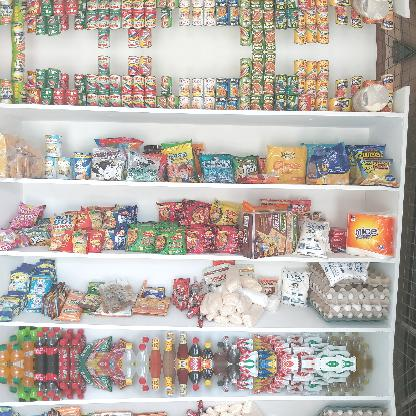Koko-Krunch: (240, 209, 302, 259)
Lady-s-Choice: (351, 83, 389, 113), (351, 0, 390, 22)
